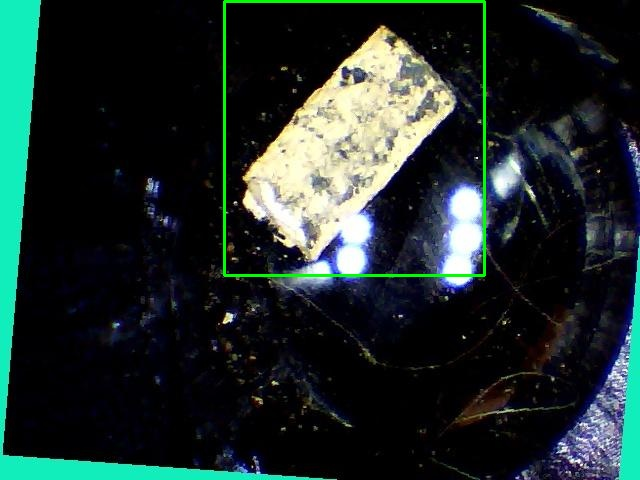megot: (224, 1, 484, 275)
